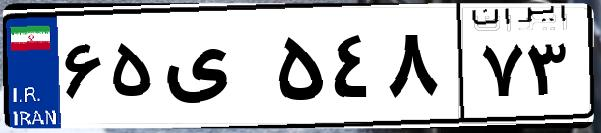3: (525, 38, 570, 115)
4: (330, 28, 385, 110)
5: (270, 28, 330, 110), (110, 28, 158, 98)
6: (57, 26, 110, 100)
7: (475, 38, 525, 113)
8: (385, 28, 445, 110)
ی: (158, 20, 270, 120)
